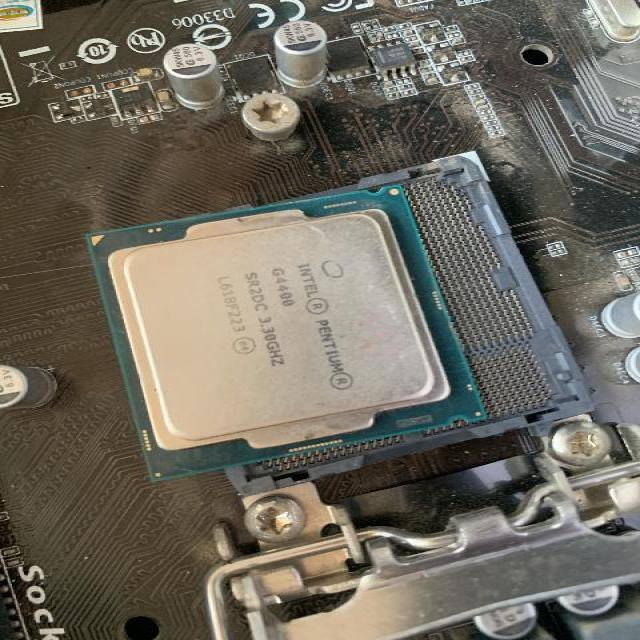CPU: (83, 184, 485, 481)
Mainboard: (0, 0, 640, 640)
